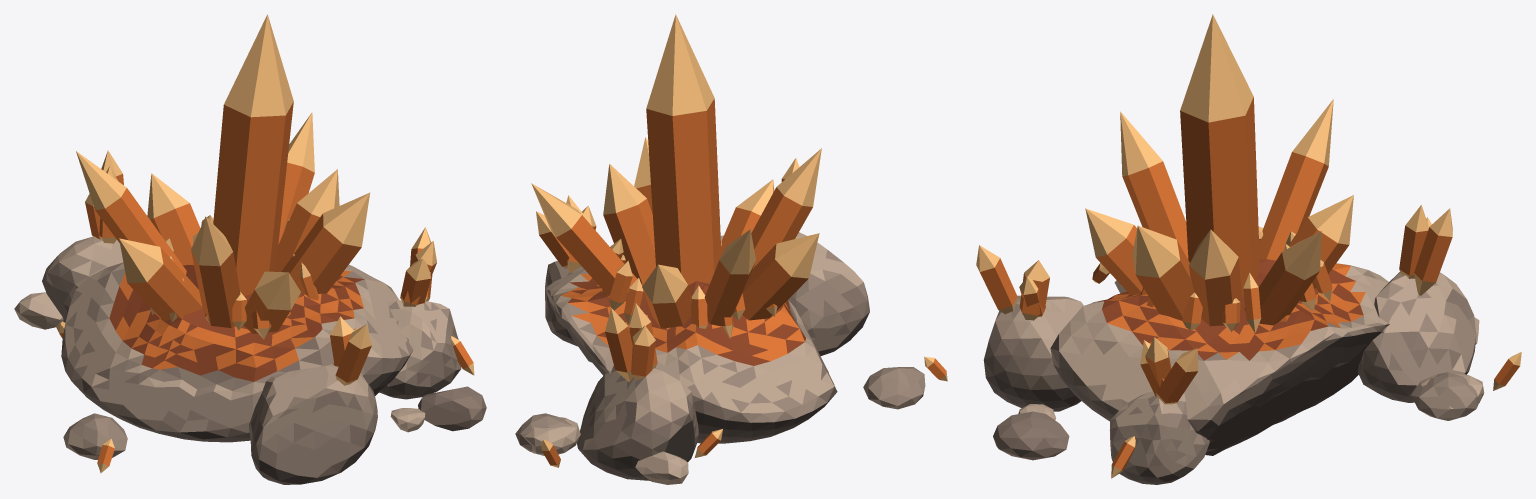
Rendered from Crystal_Agate.obj.
3 views of the same model, side by side, from view 1: azimuth 30°, elevation 25°; view 2: azimuth 150°, elevation 25°; view 3: azimuth 270°, elevation 25° (orthographic). The views are drawn at different scales.
Visible parts, largest first — view 1: Crystal_Agate; view 2: Crystal_Agate; view 3: Crystal_Agate.
Boxes of the visible parts, x1,y1,x2,y2 form: Crystal_Agate: (14,14,486,484); Crystal_Agate: (515,14,947,484); Crystal_Agate: (976,14,1521,484).
Bounding box in the file's own units: 1.28 × 1.22 × 1.48.
